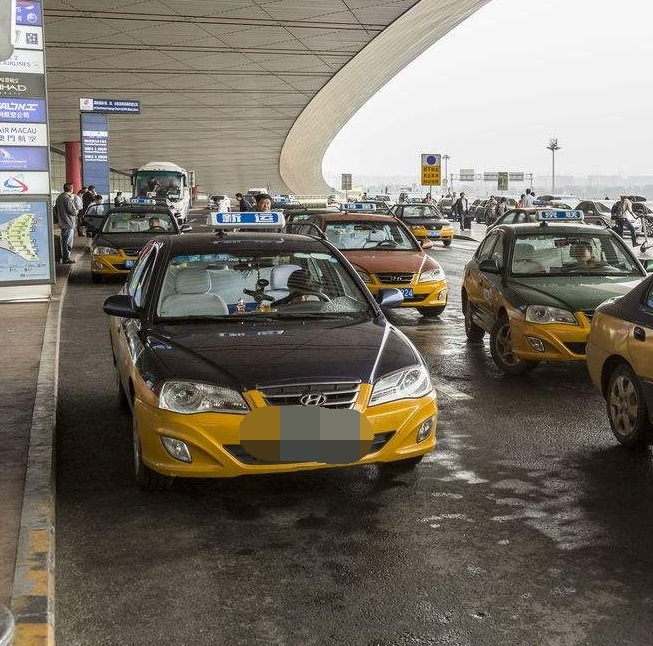taxi: (108, 215, 453, 488)
